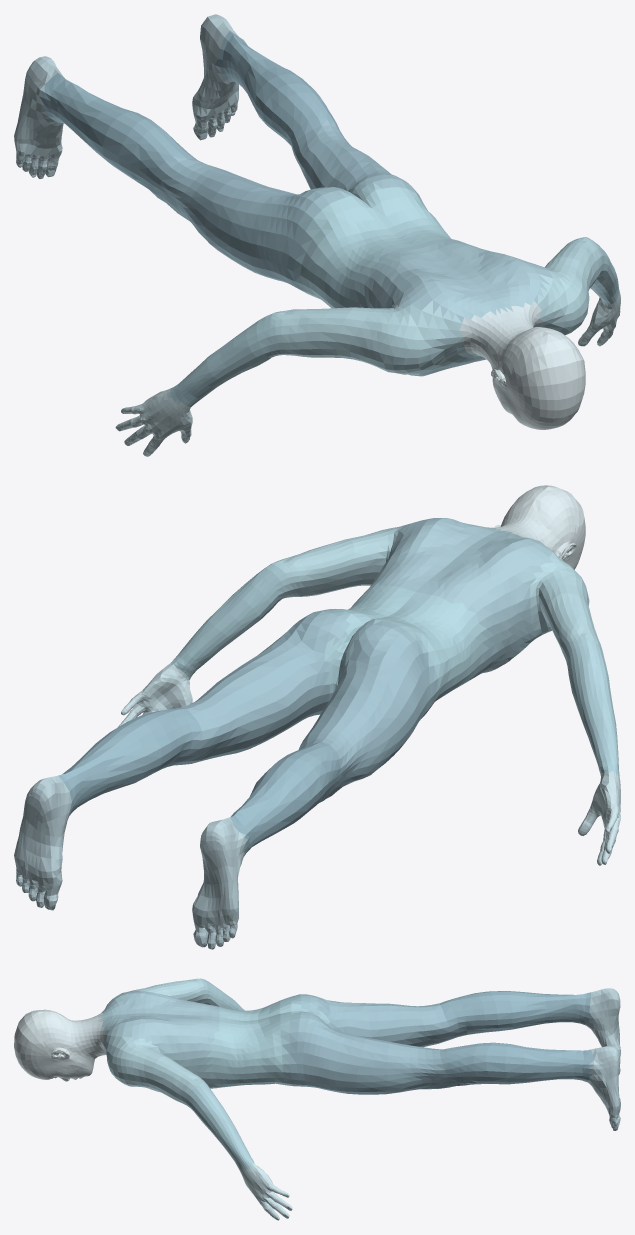
The model's file is crew_C1.glb.
3 renders of one model, top to bottom at view 1: azimuth 30°, elevation 25°; view 2: azimuth 150°, elevation 25°; view 3: azimuth 270°, elevation 25°, orthographic. The views are drawn at different scales.
Visible parts, largest first — view 1: right_thigh, abdomen, chest, right_upper_arm, head, right_lower_leg, left_lower_leg, left_upper_arm, right_foot, right_forearm, left_thigh, left_foot (+5 smaller); view 2: abdomen, left_thigh, right_thigh, chest, left_lower_leg, right_lower_leg, left_foot, left_upper_arm, right_foot, left_forearm, right_forearm, right_upper_arm (+5 smaller); view 3: left_thigh, abdomen, chest, left_lower_leg, right_lower_leg, right_thigh, head, left_upper_arm, left_forearm, left_foot, right_foot, left_hand (+4 smaller).
Part boxes in pixels (box(x1,y1,x2,y2)): right_thigh: box(154, 157, 309, 291); abdomen: box(359, 239, 552, 376); chest: box(293, 182, 460, 308); right_upper_arm: box(270, 300, 473, 374); head: box(490, 327, 585, 429); right_lower_leg: box(39, 73, 196, 197); left_lower_leg: box(215, 31, 336, 145); left_upper_arm: box(536, 237, 602, 335); right_foot: box(14, 56, 63, 178); right_forearm: box(167, 311, 283, 406); left_thigh: box(290, 119, 395, 191); left_foot: box(192, 14, 245, 140); abdomen: box(370, 518, 552, 676); left_thigh: box(174, 617, 329, 765); right_thigh: box(298, 638, 438, 799); chest: box(324, 582, 488, 706); left_lower_leg: box(58, 708, 201, 815); right_lower_leg: box(230, 742, 340, 855); left_foot: box(14, 775, 71, 910); left_upper_arm: box(276, 524, 408, 597); right_foot: box(192, 817, 247, 949); left_forearm: box(170, 561, 285, 678); right_forearm: box(566, 636, 619, 776); right_upper_arm: box(530, 544, 601, 660); left_thigh: box(282, 1018, 457, 1094); abdomen: box(98, 991, 219, 1091); chest: box(204, 997, 332, 1088); left_lower_leg: box(440, 1042, 593, 1085); right_lower_leg: box(440, 991, 593, 1036); right_thigh: box(310, 995, 466, 1047); head: box(14, 1009, 97, 1081); left_upper_arm: box(102, 1028, 203, 1105); left_forearm: box(186, 1079, 254, 1170); left_foot: box(588, 1045, 620, 1130); right_foot: box(585, 988, 620, 1074); left_hand: box(239, 1164, 292, 1220).
Size of the model in its own units: 1.18 by 0.4621 by 1.83.
